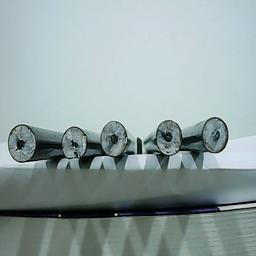pen: (7, 123, 35, 164), (201, 115, 231, 153), (155, 118, 184, 157), (60, 124, 90, 160), (100, 119, 127, 157)
